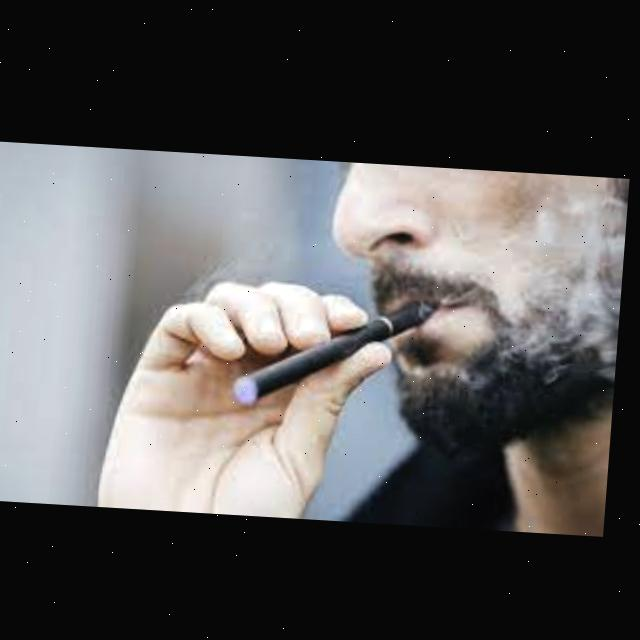vape: (238, 289, 445, 412)
